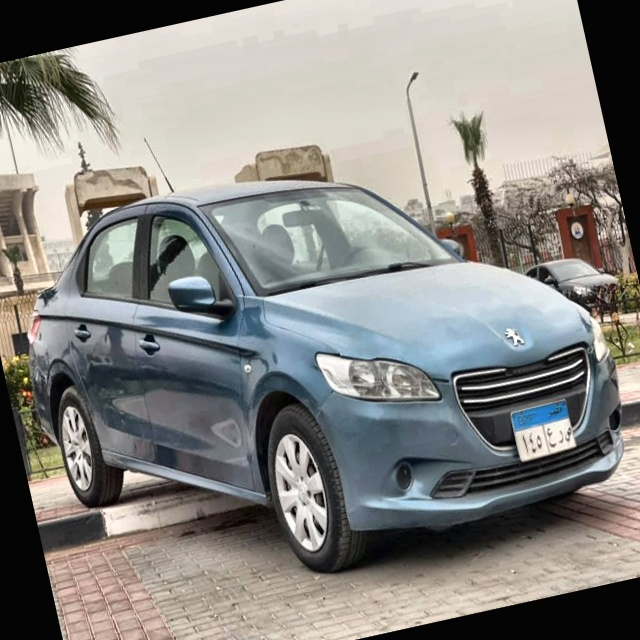License Plate: (508, 397, 580, 466)
